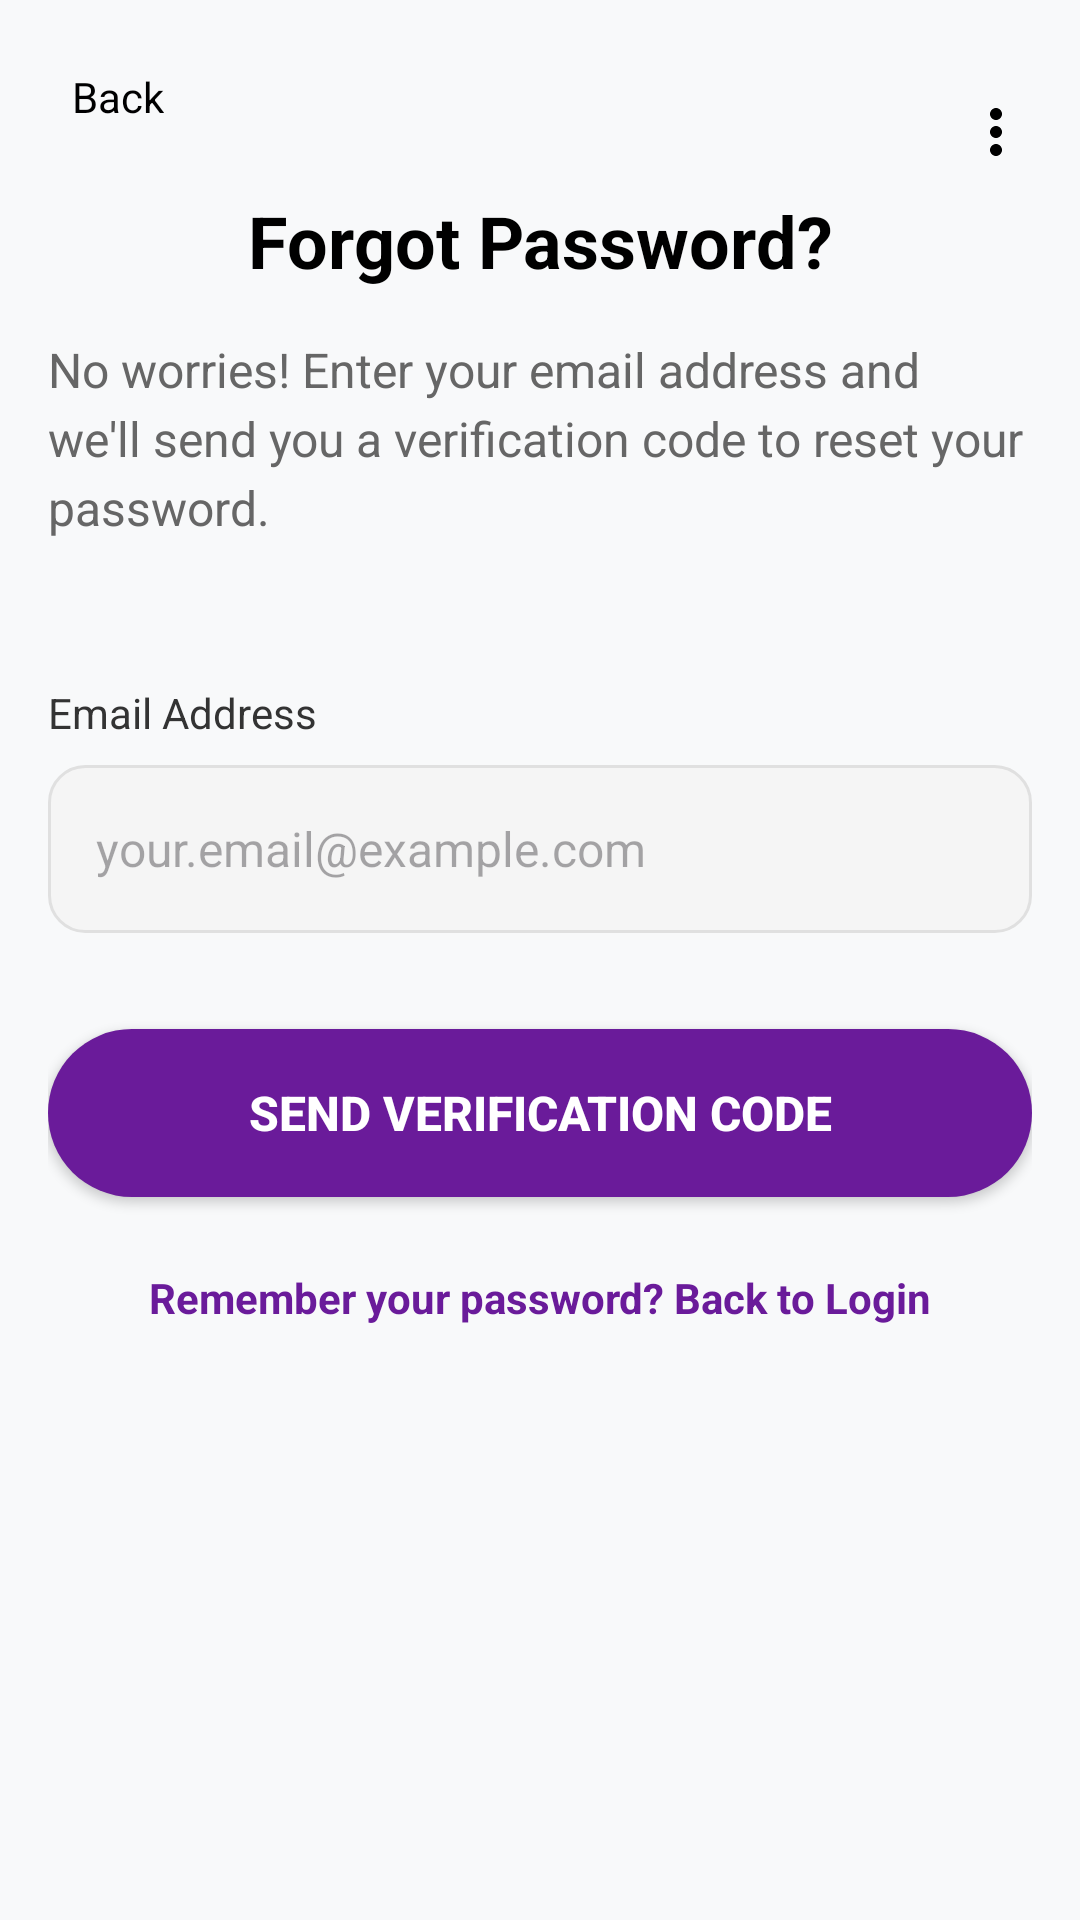

Screen size 1080 x 1920. Icon name, then its center in pixels as (x=x, y=y):
Menu: (x=996, y=132)
